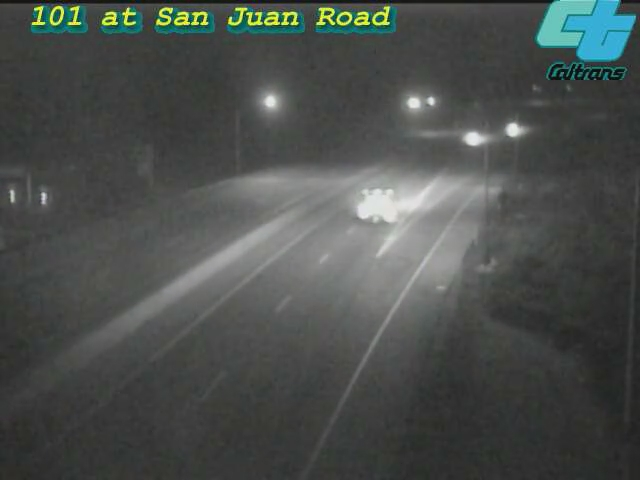vehicle: (336, 164, 416, 244), (482, 106, 532, 156), (447, 113, 497, 163)
